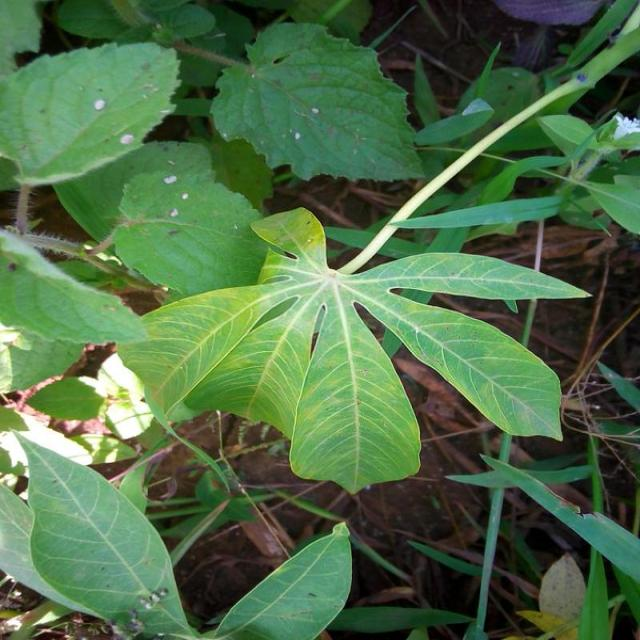cassava leaf: (116, 203, 591, 494), (3, 428, 200, 638), (210, 19, 426, 184), (1, 38, 182, 189)
